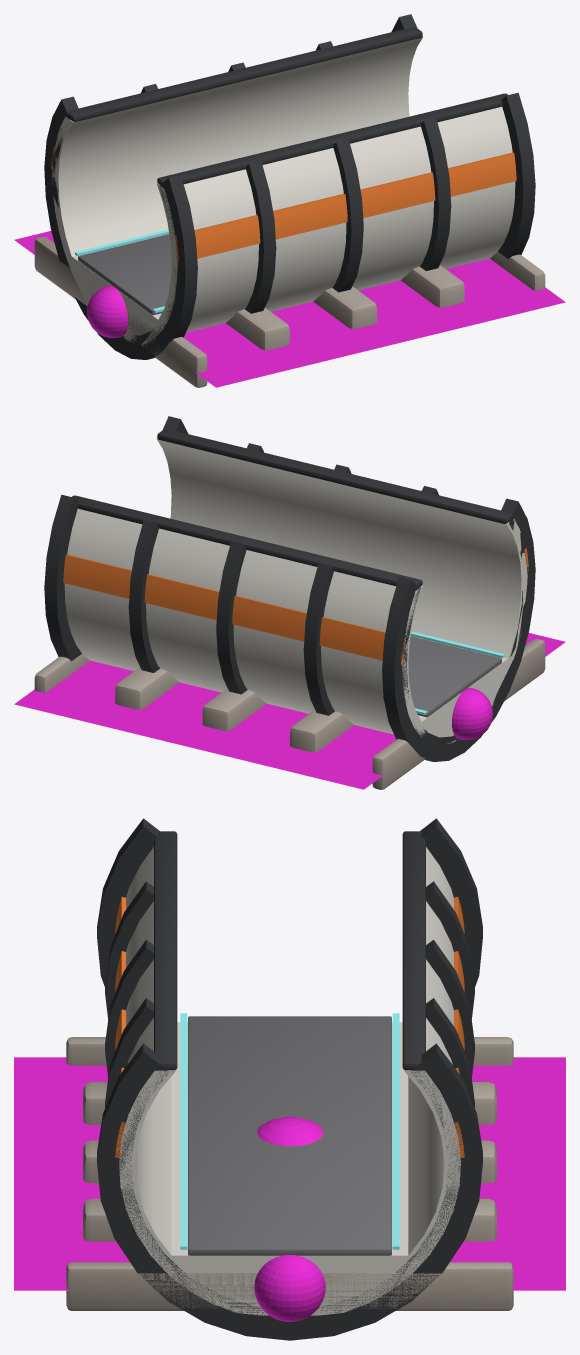
File: tunnel_2_cut.gltf
The picture shows the model from 3 angles, top to bottom: view 1: azimuth 30°, elevation 25°; view 2: azimuth 150°, elevation 25°; view 3: azimuth 270°, elevation 25°; orthographic projection. The views are drawn at different scales.
Visible parts, largest first — view 1: Tunnel, %P%Footprint, %P%AnchorIn.002; view 2: Tunnel, %P%Footprint, %P%AnchorIn.002; view 3: Tunnel, %P%Footprint, %P%AnchorIn.001, %P%Center.
Part boxes in pixels (x1,y1,x2,y2): Tunnel: [34, 14, 545, 387]; %P%Footprint: [14, 231, 565, 387]; %P%AnchorIn.002: [87, 285, 127, 337]; Tunnel: [34, 416, 545, 789]; %P%Footprint: [14, 633, 565, 789]; %P%AnchorIn.002: [452, 687, 492, 739]; Tunnel: [66, 818, 513, 1340]; %P%Footprint: [14, 1057, 565, 1290]; %P%AnchorIn.001: [254, 1255, 325, 1321]; %P%Center: [257, 1116, 323, 1146].
Size of the model in its own units: 2.26 by 1.16 by 2.
